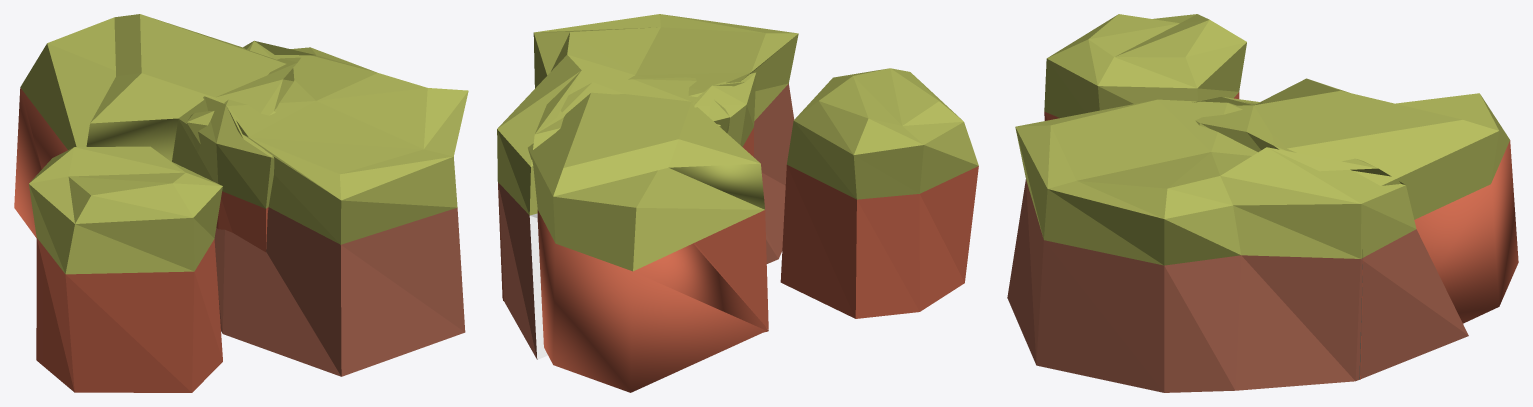
File: europe_UK.glb
The picture shows the model from 3 angles, left to right: view 1: azimuth 30°, elevation 25°; view 2: azimuth 150°, elevation 25°; view 3: azimuth 270°, elevation 25°; orthographic projection. The views are drawn at different scales.
Visible parts, largest first — view 1: europe_UK; view 2: europe_UK; view 3: europe_UK.
Part boxes in pixels (x1=…): europe_UK: x1=14, y1=14, x2=468, y2=392; europe_UK: x1=497, y1=14, x2=978, y2=392; europe_UK: x1=1007, y1=14, x2=1518, y2=392.
Size of the model in its own units: 0.9149 by 0.4333 by 0.9317.
Materials: 3 (1 with a texture image).
